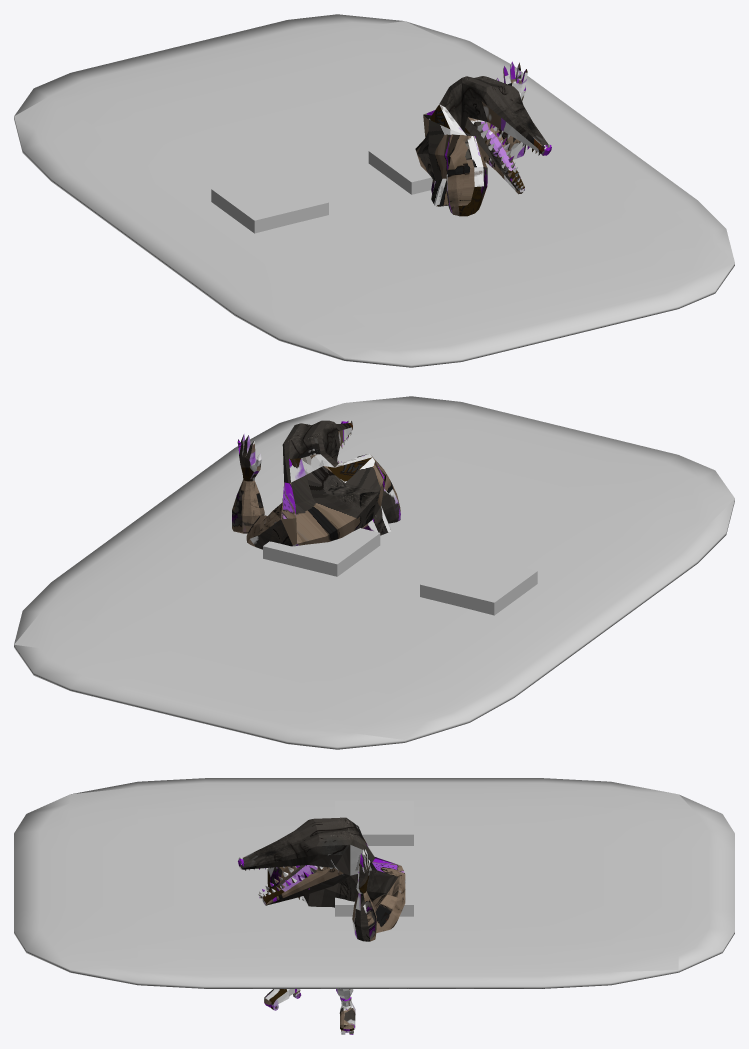
The model's file is cocodrilaBonesSelect_000019.obj.
3 renders of one model, top to bottom at view 1: azimuth 30°, elevation 25°; view 2: azimuth 150°, elevation 25°; view 3: azimuth 270°, elevation 25°, orthographic. The views are drawn at different scales.
Visible parts, largest first — view 1: Mball, Crocodile.002_Cylinder.002, Cube, Cube.001; view 2: Mball, Crocodile.002_Cylinder.002, Cube, Cube.001; view 3: Mball, Crocodile.002_Cylinder.002, Cube, Cube.001.
Part boxes in pixels (box(x1,y1,x2,y2)): Mball: box(14, 14, 734, 367); Crocodile.002_Cylinder.002: box(415, 61, 551, 216); Cube: box(211, 171, 328, 233); Cube.001: box(368, 137, 432, 194); Mball: box(14, 396, 734, 749); Crocodile.002_Cylinder.002: box(232, 420, 400, 549); Cube: box(420, 553, 537, 615); Cube.001: box(263, 528, 380, 576); Mball: box(14, 778, 734, 988); Crocodile.002_Cylinder.002: box(238, 817, 405, 1034); Cube: box(335, 801, 413, 845); Cube.001: box(335, 871, 413, 916).
Bounding box in the file's own units: 12.42 × 6.16 × 18.18.
